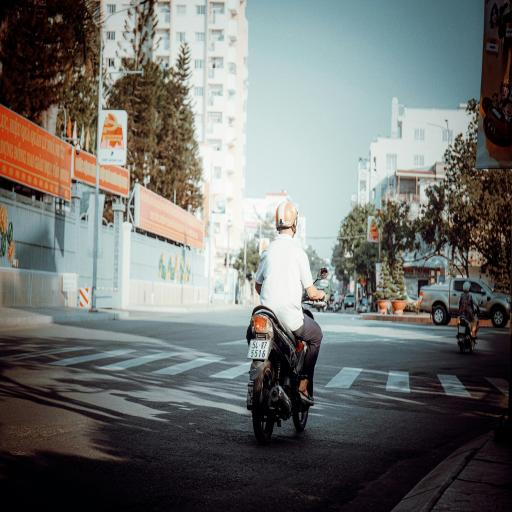place: (249, 334, 270, 364)
